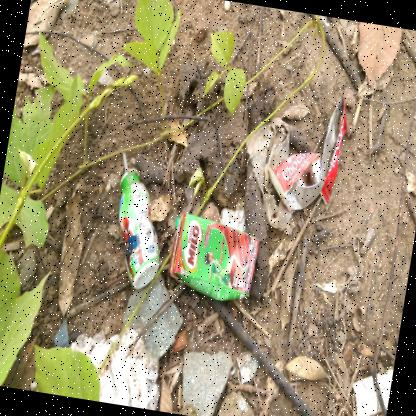Drink carton: (167, 213, 259, 300)
Other plastic: (267, 95, 347, 211)
Other plastic container: (118, 169, 158, 289)
Plastic straw: (122, 153, 128, 171)
Unlabeled litter: (70, 327, 161, 409), (246, 118, 294, 235), (219, 207, 245, 232)
